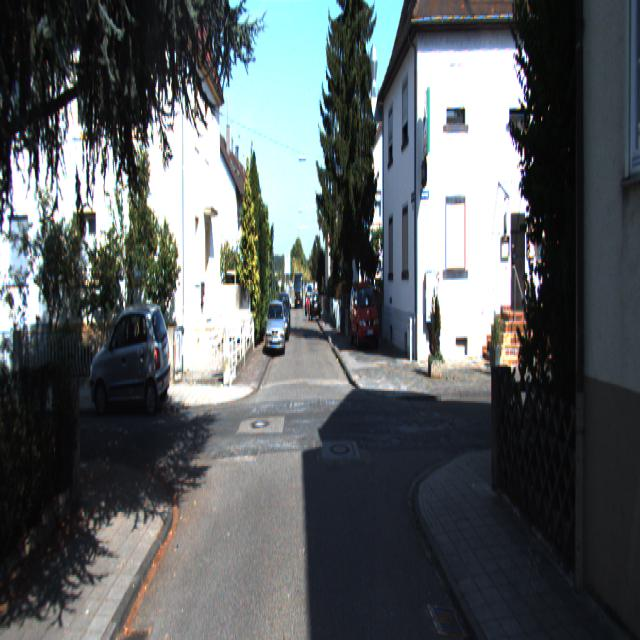Car: (88, 298, 172, 412), (350, 274, 380, 347), (267, 301, 285, 358)
